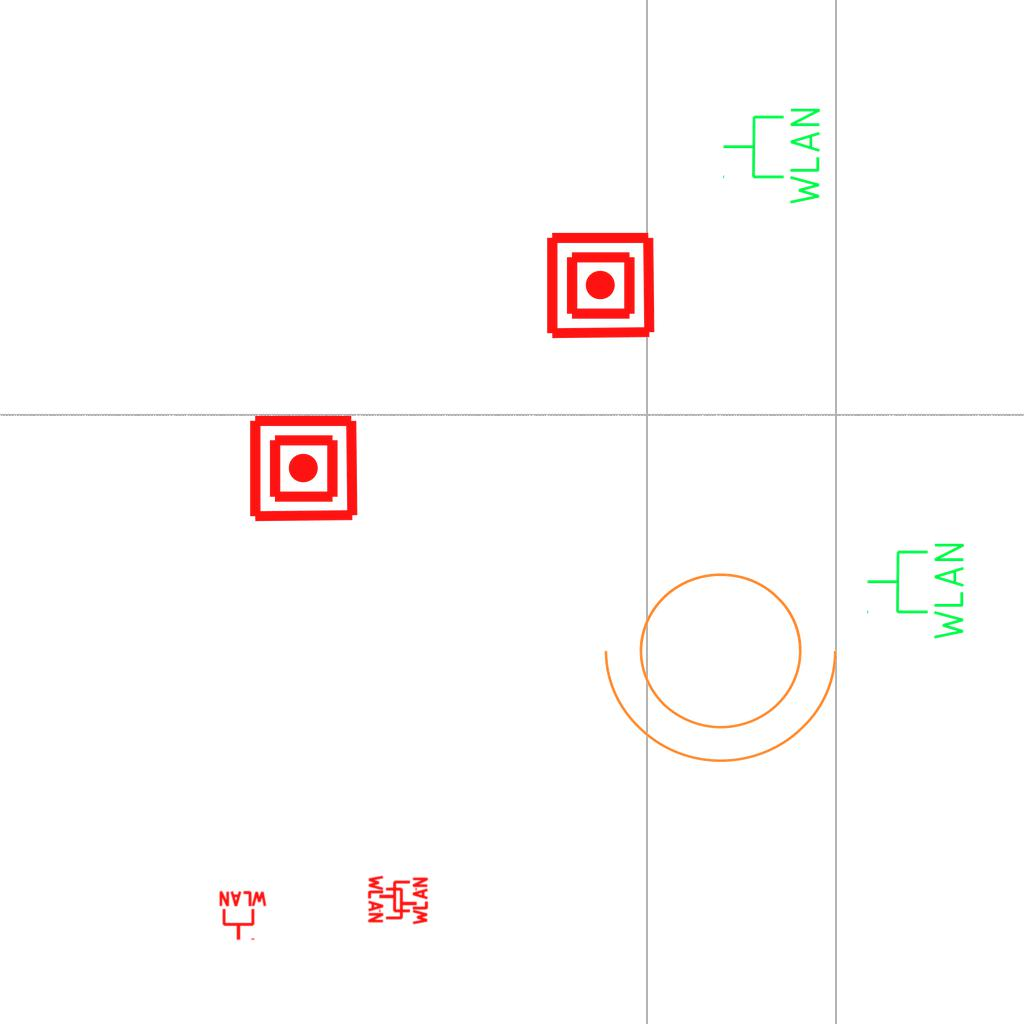NAM-Nichtautomatischer_Melder: (544, 229, 657, 342), (247, 412, 360, 525)
Scheinwerfer_fuer_Alarmbeleuchtung: (595, 548, 859, 773)
WLAN: (720, 104, 824, 209), (864, 539, 968, 644), (217, 890, 269, 942), (367, 873, 419, 925), (377, 875, 429, 927)
